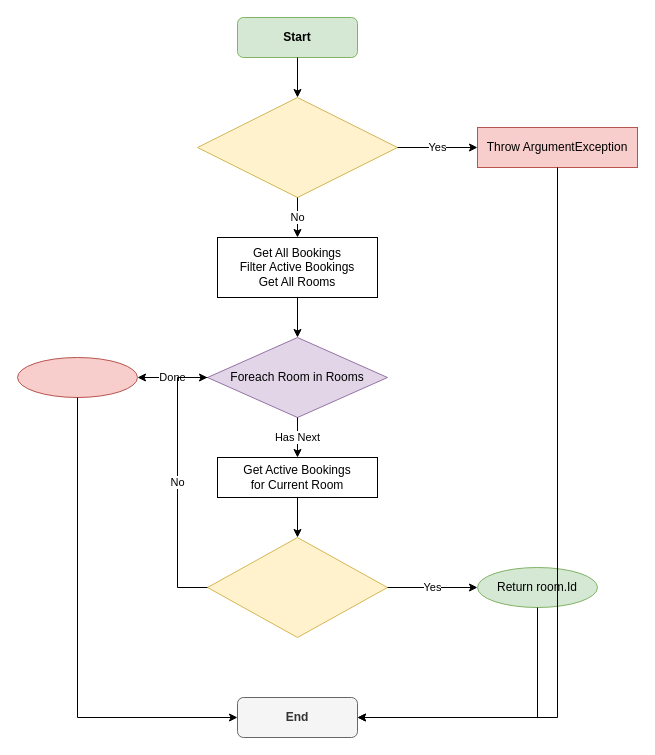
Image size: 655x755. Some labels were removed from this diagram. The centre of each missing label's shape, as x and y in pixels:
"Is Room Available? (No Date Overlap)" goes at point 297,587.
"Return -1" goes at point 77,377.
"startDate <= Today OR startDate > endDate?" goes at point 297,147.
